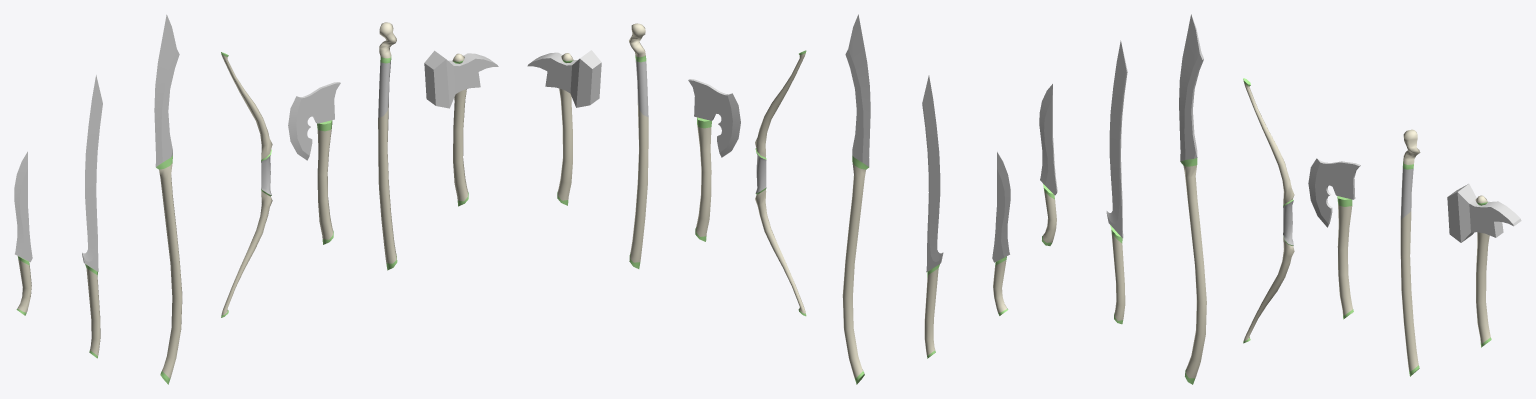
File: weapon_set_elven.fbx
3 renders of one model, left to right at view 1: azimuth 30°, elevation 25°; view 2: azimuth 150°, elevation 25°; view 3: azimuth 330°, elevation 25°, orthographic.
Parts seen in each view (by area): view 1: ElvenPolearm, ElvenHammer, ElvenAxe, ElvenLongSword, ElvenStaff, ElvenBow, ElvenShortSword; view 2: ElvenPolearm, ElvenHammer, ElvenAxe, ElvenLongSword, ElvenStaff, ElvenBow, ElvenShortSword; view 3: ElvenPolearm, ElvenHammer, ElvenAxe, ElvenLongSword, ElvenStaff, ElvenBow, ElvenShortSword.
Part boxes in pixels (box(x1,y1,x2,y2)): ElvenPolearm: box(154, 14, 182, 384); ElvenHammer: box(424, 50, 498, 206); ElvenAxe: box(288, 82, 340, 244); ElvenLongSword: box(82, 75, 102, 358); ElvenStaff: box(378, 22, 397, 270); ElvenBow: box(221, 52, 272, 317); ElvenShortSword: box(14, 151, 32, 315); ElvenPolearm: box(842, 14, 870, 384); ElvenHammer: box(527, 50, 601, 205); ElvenAxe: box(688, 79, 740, 241); ElvenLongSword: box(922, 75, 943, 358); ElvenStaff: box(629, 23, 648, 268); ElvenBow: box(755, 50, 806, 316); ElvenShortSword: box(992, 152, 1010, 315); ElvenPolearm: box(1179, 14, 1206, 384); ElvenHammer: box(1447, 184, 1521, 347); ElvenAxe: box(1308, 158, 1360, 319); ElvenLongSword: box(1106, 40, 1127, 324); ElvenStaff: box(1400, 129, 1420, 376); ElvenBow: box(1243, 78, 1294, 343); ElvenShortSword: box(1039, 84, 1057, 245).
Size of the model in its own units: 667 by 493 by 28.2.
